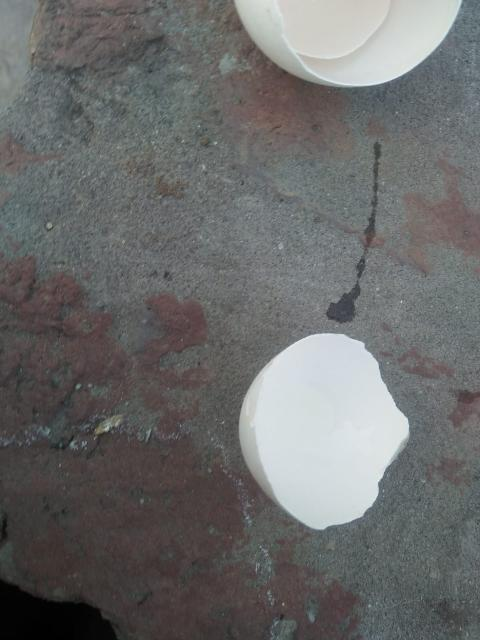Roto: (237, 332, 410, 531), (227, 0, 466, 88)
